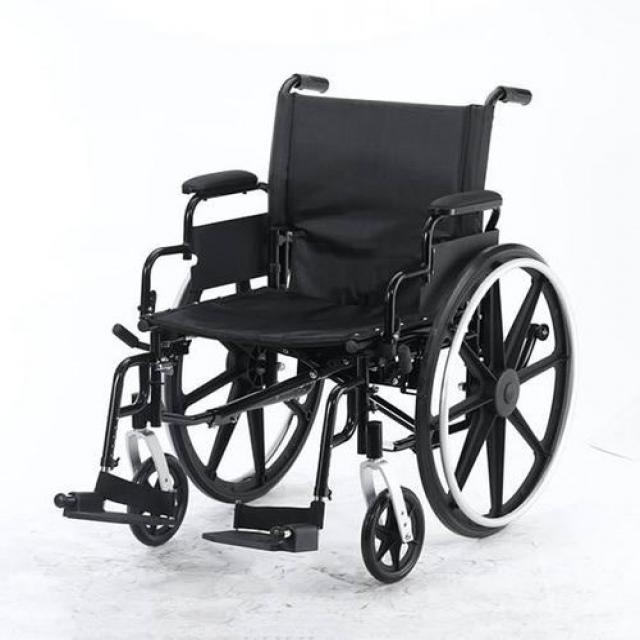wheelchair: (46, 54, 597, 584)
